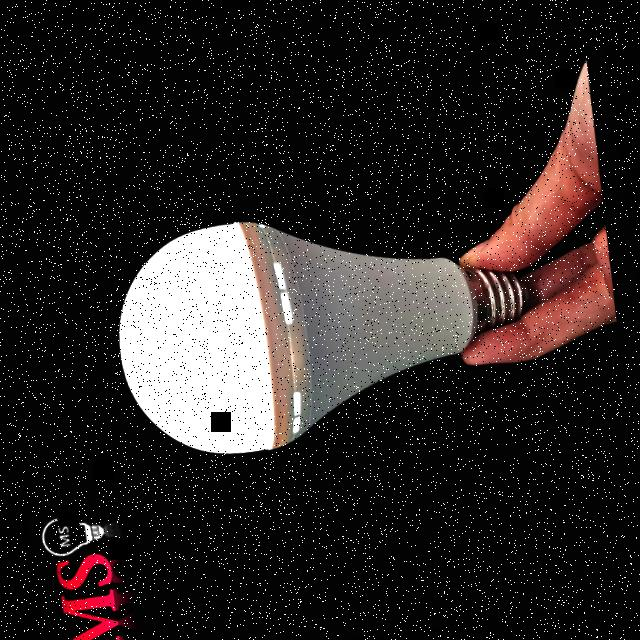light_bulb: (95, 177, 552, 482)
